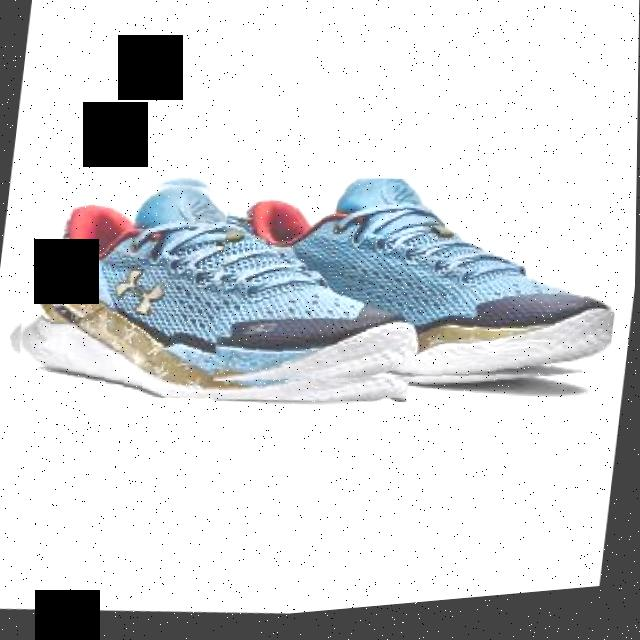shoe: (3, 147, 433, 437), (207, 152, 631, 426)
